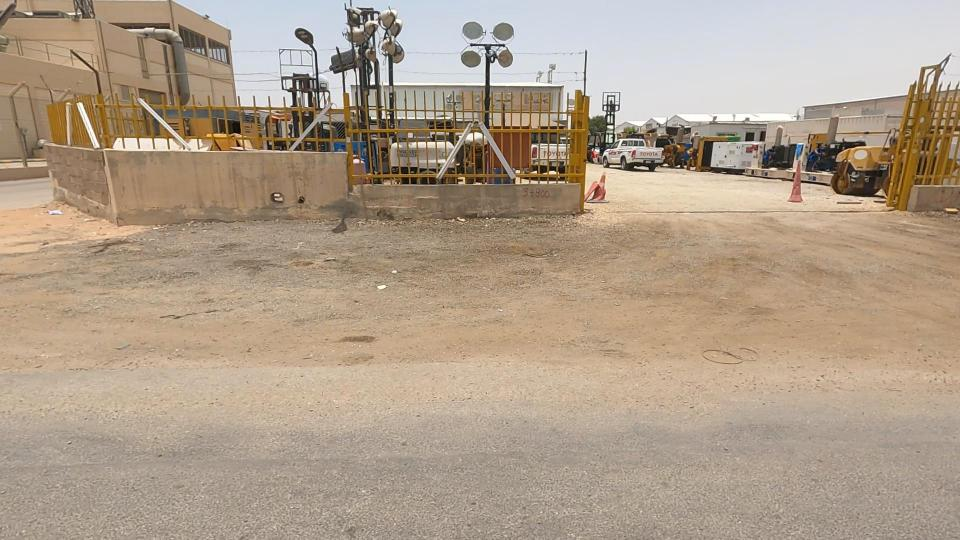GARBAGE: (341, 261, 419, 313), (27, 187, 91, 236)
